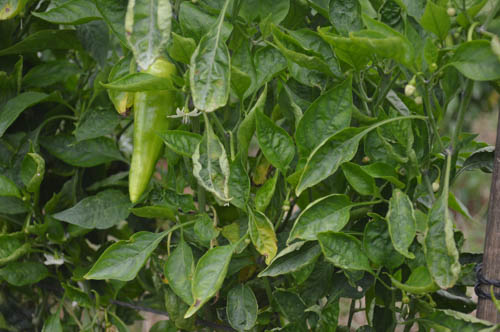ChiliPepper: (128, 60, 175, 200)
